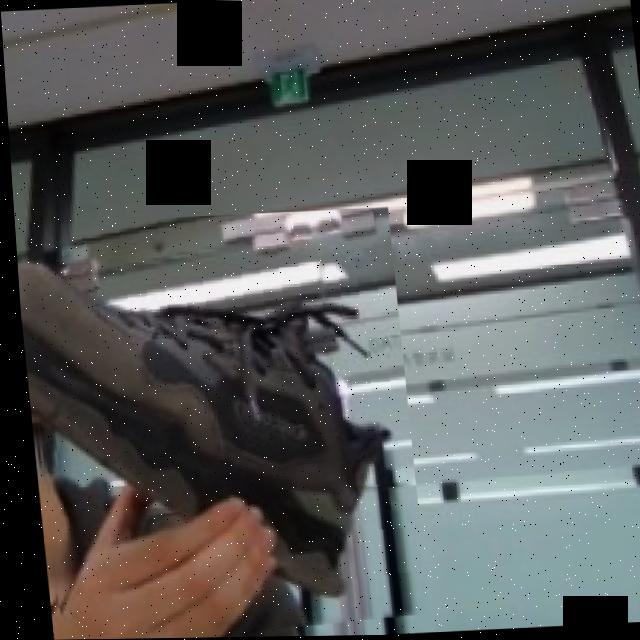shoe: (11, 207, 422, 640)
